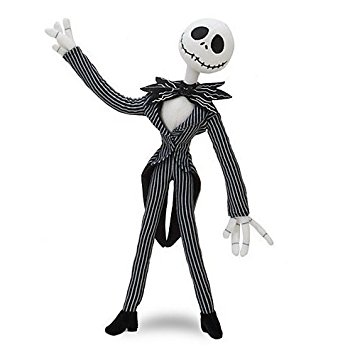Jack Skellington: (43, 17, 275, 342)
